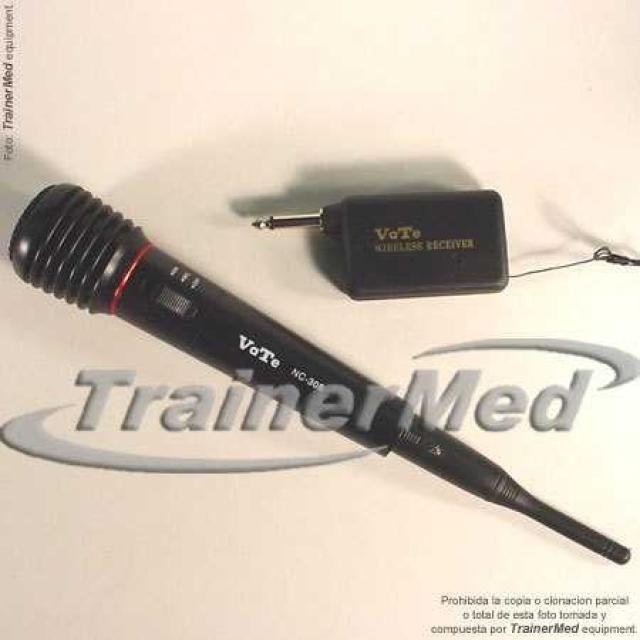microphone: (9, 180, 532, 508)
